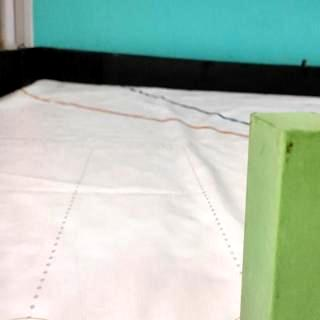greenbox: (239, 111, 320, 320)
